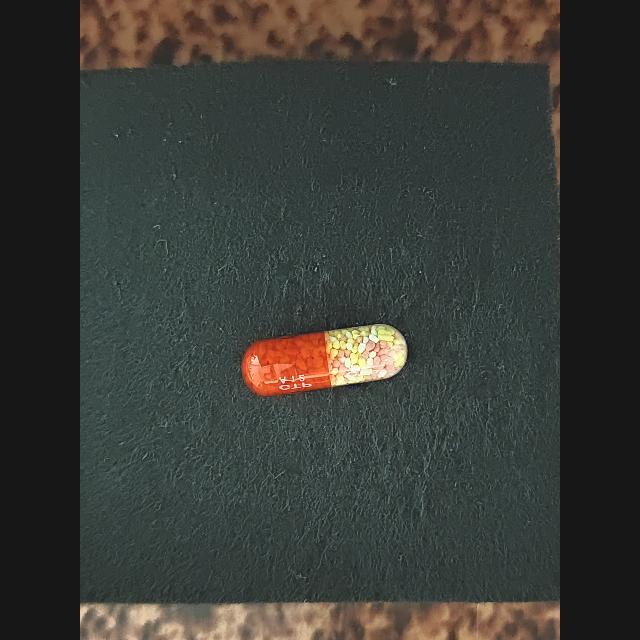Intact Capsule: (241, 324, 407, 395)
